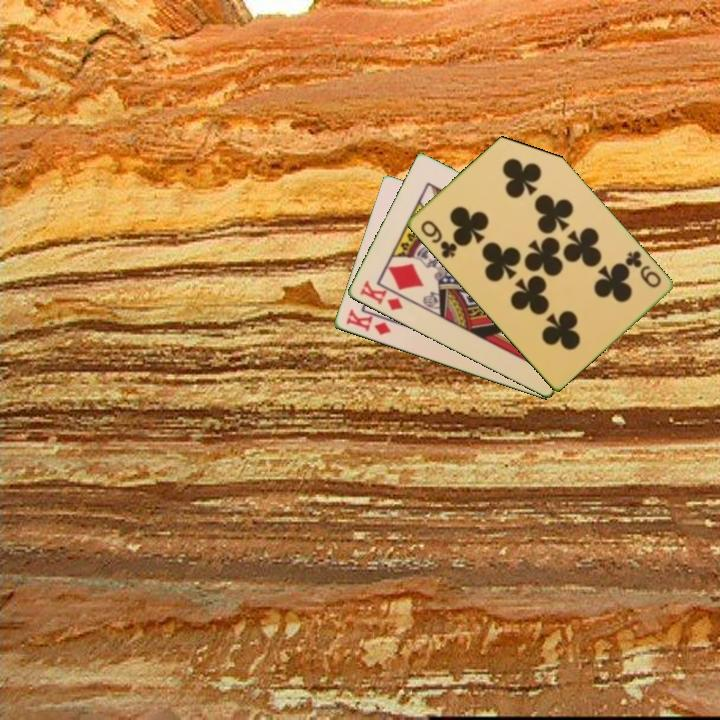9c: (417, 217, 460, 262), (621, 247, 664, 291)
Kd: (356, 277, 405, 314), (342, 305, 393, 338)
